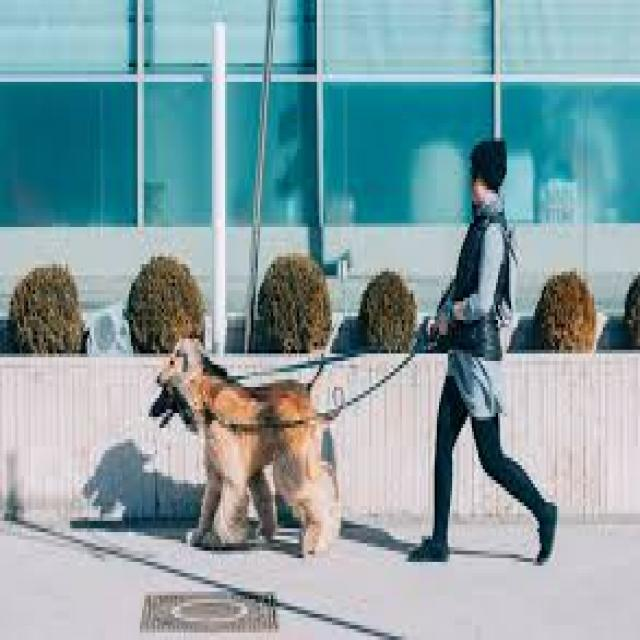good: (151, 333, 349, 562)
